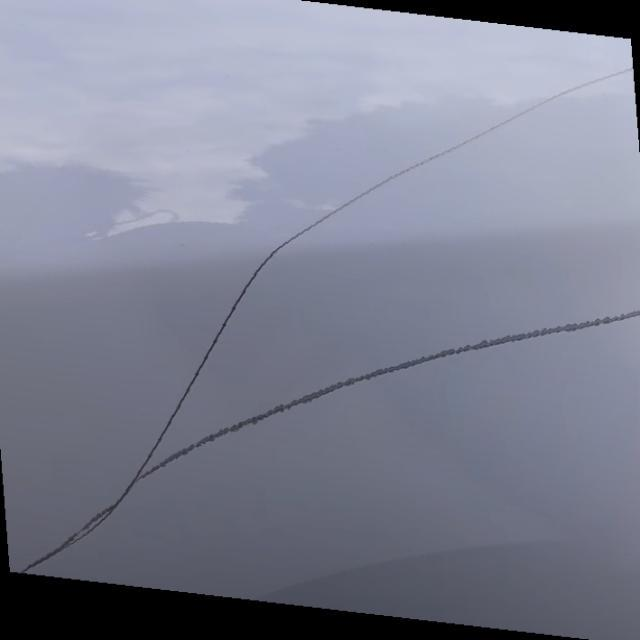crack: (230, 354, 584, 419)
